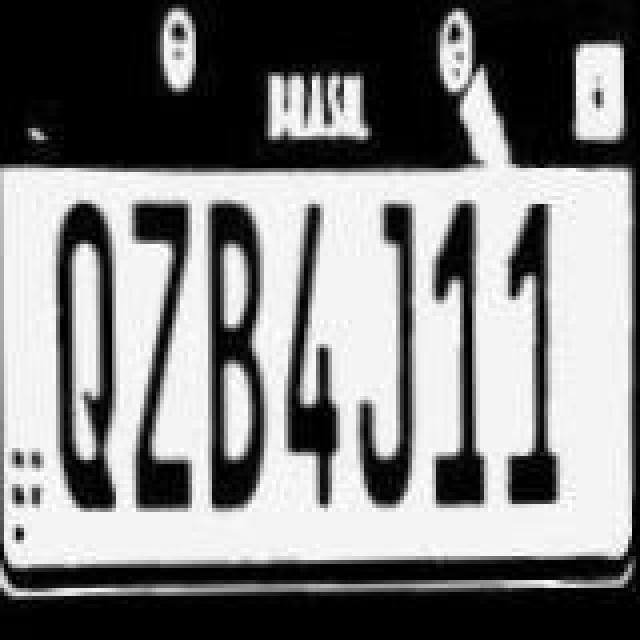1: (496, 206, 572, 498), (426, 210, 498, 518)
4: (284, 206, 352, 510)
B: (200, 198, 276, 522)
J: (354, 204, 426, 508)
Q: (50, 204, 130, 508)
Z: (126, 198, 206, 510)
